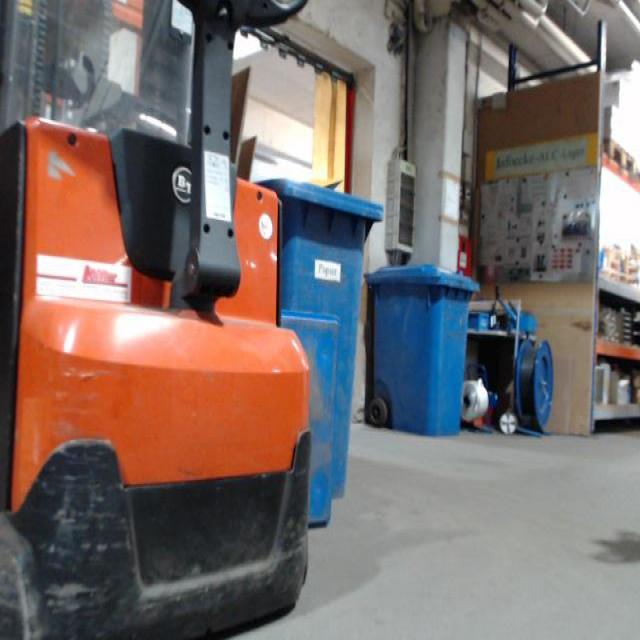pallet: (603, 133, 639, 178)
pallet_truck: (3, 5, 313, 634)
